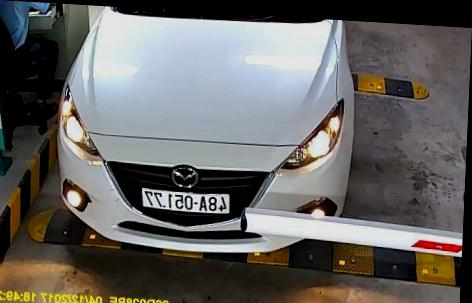License_Plate: (144, 183, 233, 218)
